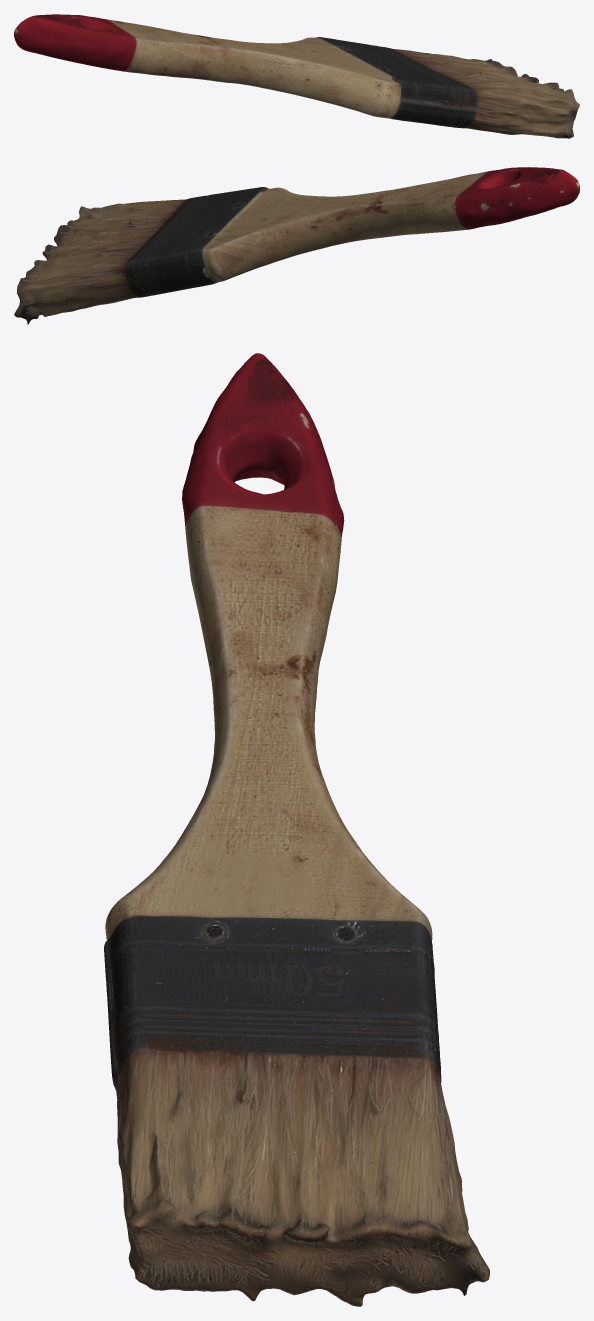
The model's file is paint_brush.glb.
3 renders of one model, top to bottom at view 1: azimuth 30°, elevation 25°; view 2: azimuth 150°, elevation 25°; view 3: azimuth 270°, elevation 25°, orthographic. The views are drawn at different scales.
Parts seen in each view (by area): view 1: Model; view 2: Model; view 3: Model.
Part boxes in pixels (x1,y1,x2,y2): Model: [14, 14, 579, 138]; Model: [14, 167, 579, 324]; Model: [104, 353, 489, 1306].
Size of the model in its own units: 0.9957 by 0.4302 by 0.3161.
Materials: 1 (1 with a texture image).
